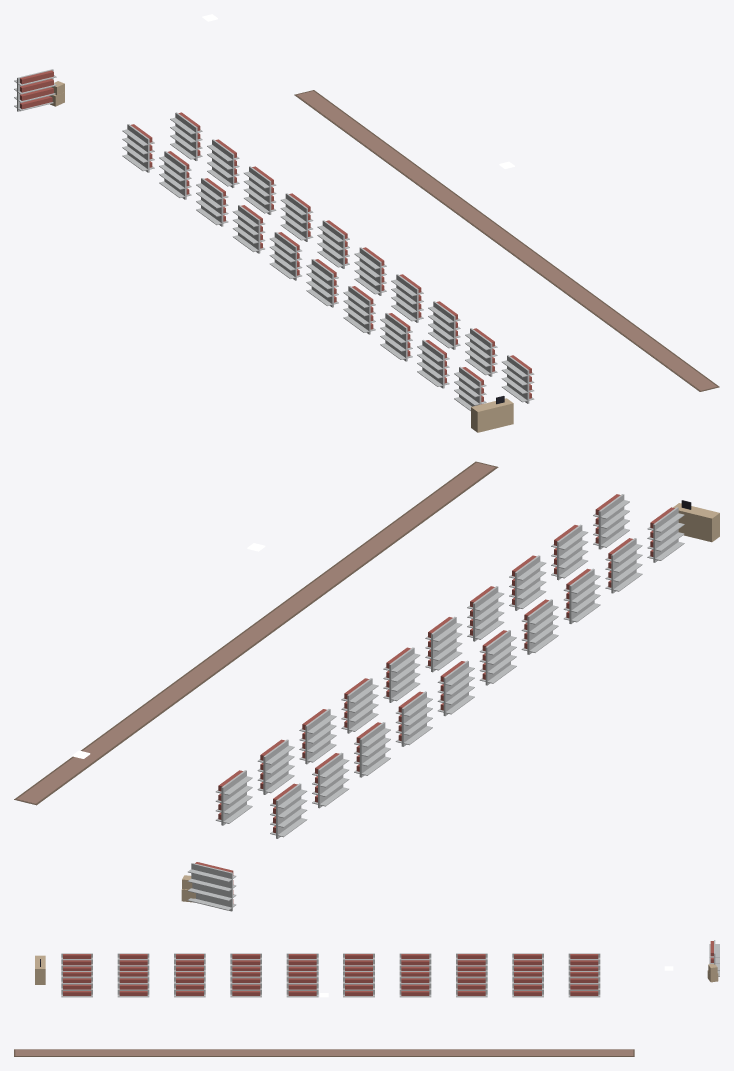
Rendered from fine-s0.glb.
3 renders of one model, top to bottom at view 1: azimuth 30°, elevation 25°; view 2: azimuth 150°, elevation 25°; view 3: azimuth 270°, elevation 25°, orthographic. The views are drawn at different scales.
Visible parts, largest first — view 1: soft-s0, shelving.000, shop-counter.000, shelf.000, shelf.016, shelf.004, shelf.013, shelf.007, shelf.010, shelf.014, shelf.001, shelf.005 (+11 smaller); view 2: soft-s0, shelving.000, shelf.002, shelf.019, shelf.008, shelf.004, shelf.016, shelf.010, shelf.014, shelf.001, shelf.005, shelf.007 (+11 smaller); view 3: soft-s0, shelf.015, shelf.010, shelf.013, shelf.018, shelf.011, shelf.012, shelf.014, shelf.016, shelf.017, shelf.019, shelf.000 (+11 smaller).
Part boxes in pixels (bbox=[...]): soft-s0: bbox=[294, 90, 719, 391]; shelving.000: bbox=[14, 69, 56, 111]; shop-counter.000: bbox=[471, 396, 513, 432]; shelf.000: bbox=[122, 124, 154, 172]; shelf.016: bbox=[391, 274, 423, 322]; shelf.004: bbox=[269, 232, 302, 280]; shelf.013: bbox=[280, 193, 313, 241]; shelf.007: bbox=[380, 313, 412, 361]; shelf.010: bbox=[170, 112, 202, 160]; shelf.014: bbox=[317, 220, 349, 268]; shelf.001: bbox=[159, 151, 191, 199]; shelf.005: bbox=[306, 259, 338, 307]; soft-s0: bbox=[14, 461, 498, 805]; shelving.000: bbox=[187, 862, 236, 911]; shelf.002: bbox=[354, 722, 390, 777]; shelf.019: bbox=[593, 494, 629, 549]; shelf.008: bbox=[605, 538, 642, 593]; shelf.004: bbox=[437, 660, 474, 716]; shelf.016: bbox=[467, 586, 504, 641]; shelf.010: bbox=[215, 770, 252, 825]; shelf.014: bbox=[383, 647, 420, 702]; shelf.001: bbox=[312, 752, 349, 808]; shelf.005: bbox=[479, 630, 516, 685]; shelf.007: bbox=[563, 568, 600, 623]; soft-s0: bbox=[14, 1049, 634, 1056]; shelf.015: bbox=[286, 971, 318, 997]; shelf.010: bbox=[568, 971, 600, 997]; shelf.013: bbox=[399, 971, 431, 997]; shelf.018: bbox=[117, 971, 149, 997]; shelf.011: bbox=[512, 971, 543, 997]; shelf.012: bbox=[456, 971, 487, 997]; shelf.014: bbox=[343, 971, 374, 997]; shelf.016: bbox=[230, 971, 261, 997]; shelf.017: bbox=[174, 971, 205, 997]; shelf.019: bbox=[61, 971, 92, 997]; shelf.000: bbox=[568, 953, 600, 970].
Size of the model in its own units: 12.25 by 3.66 by 40.09.
